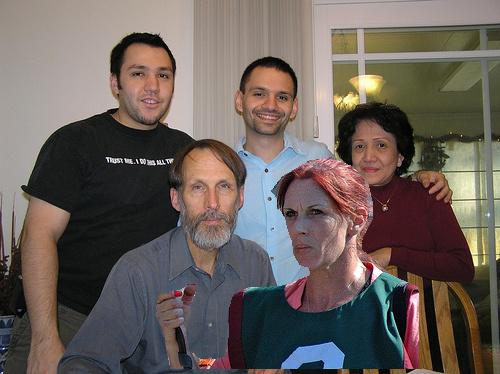tampered: (156, 158, 419, 369)
